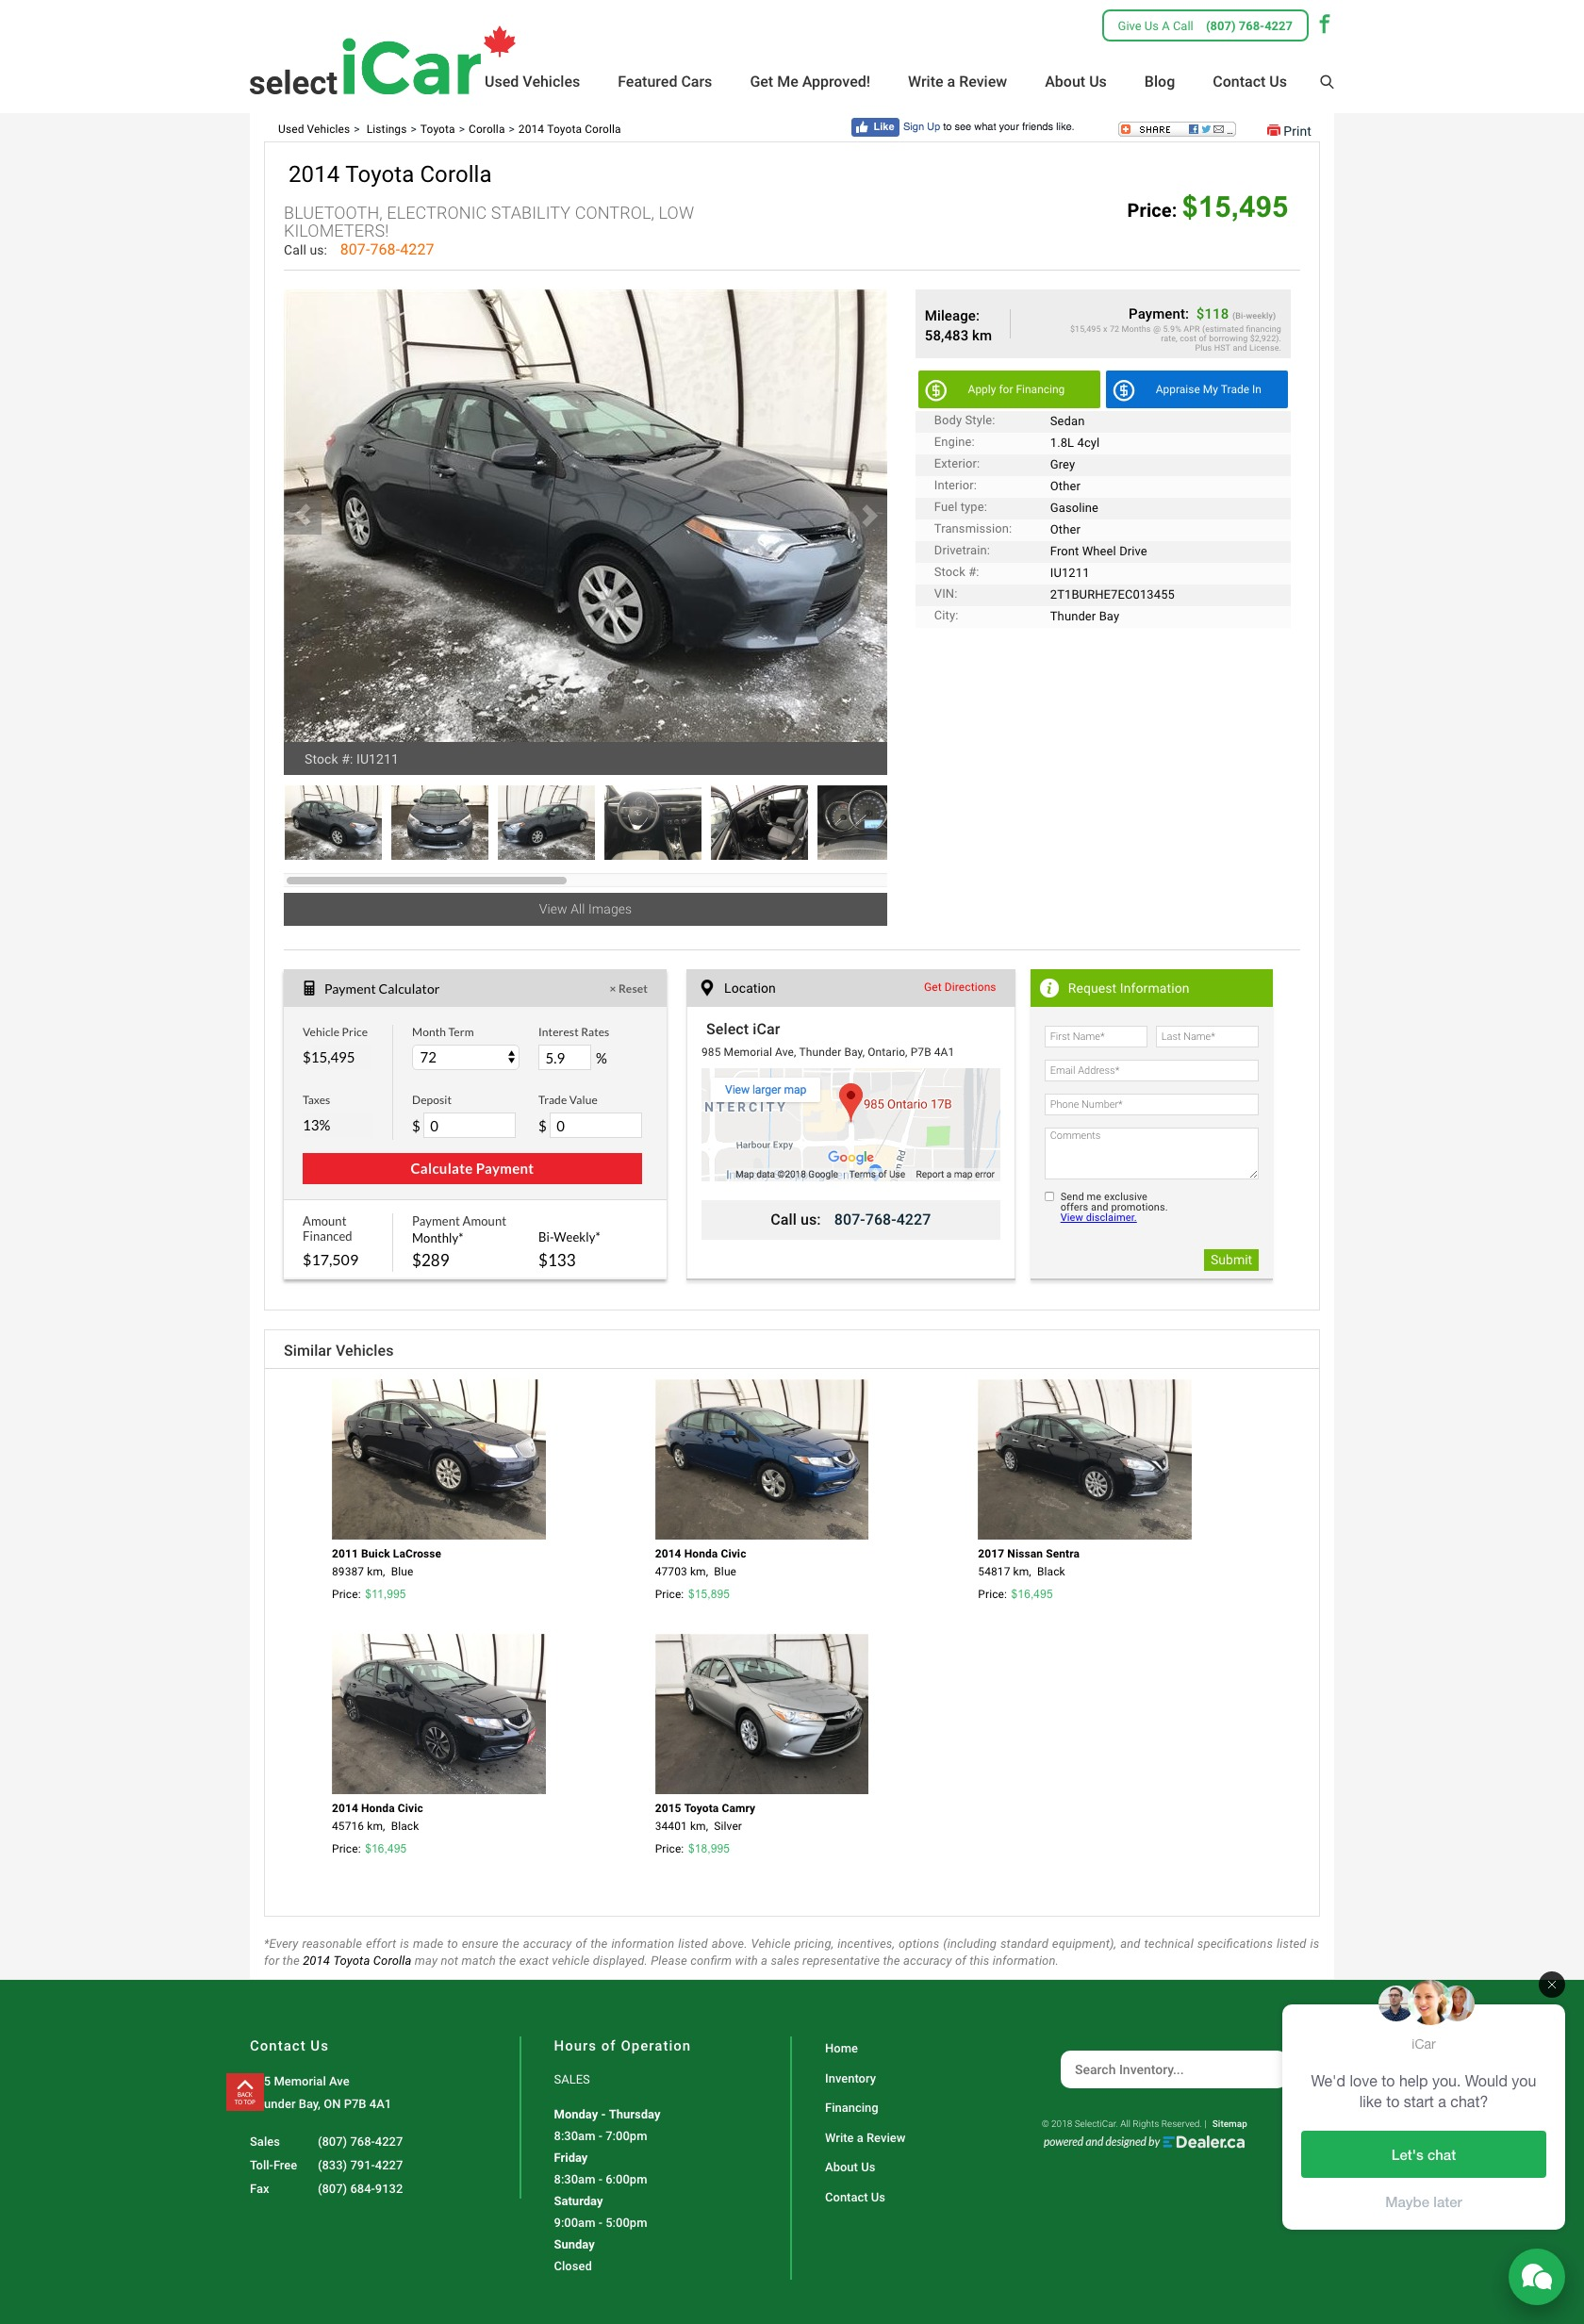car: (849, 498, 888, 547)
